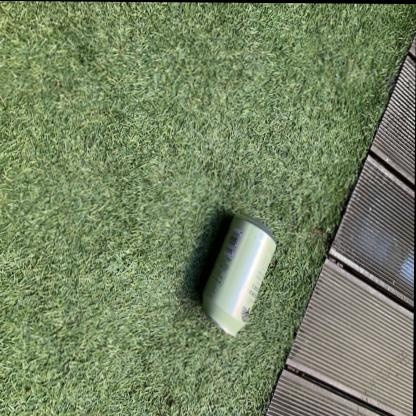trash: (203, 215, 275, 335)
